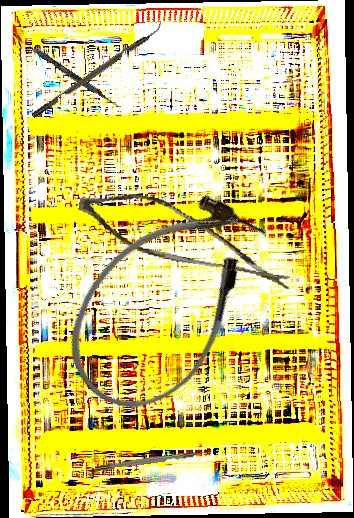Cannula: (38, 166, 292, 437)
Chopper: (26, 18, 167, 119)
Hook Surgical: (95, 448, 213, 472)
Micro Scissor: (70, 185, 304, 290)
Spatula Surgical: (9, 32, 122, 109)
